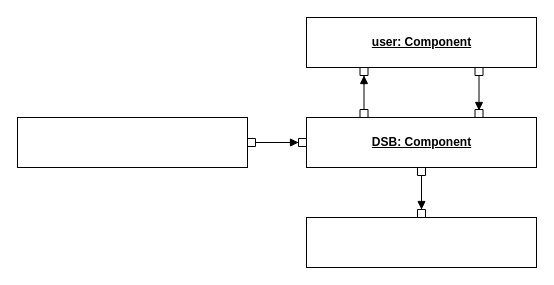
Some shapes in this 554 by 285 pixel diagram are drawn without their labels. Each missing label, with the box of its shape:
barrier: Component: (306, 216, 536, 268)
Senor (simulated): (16, 116, 248, 168)
